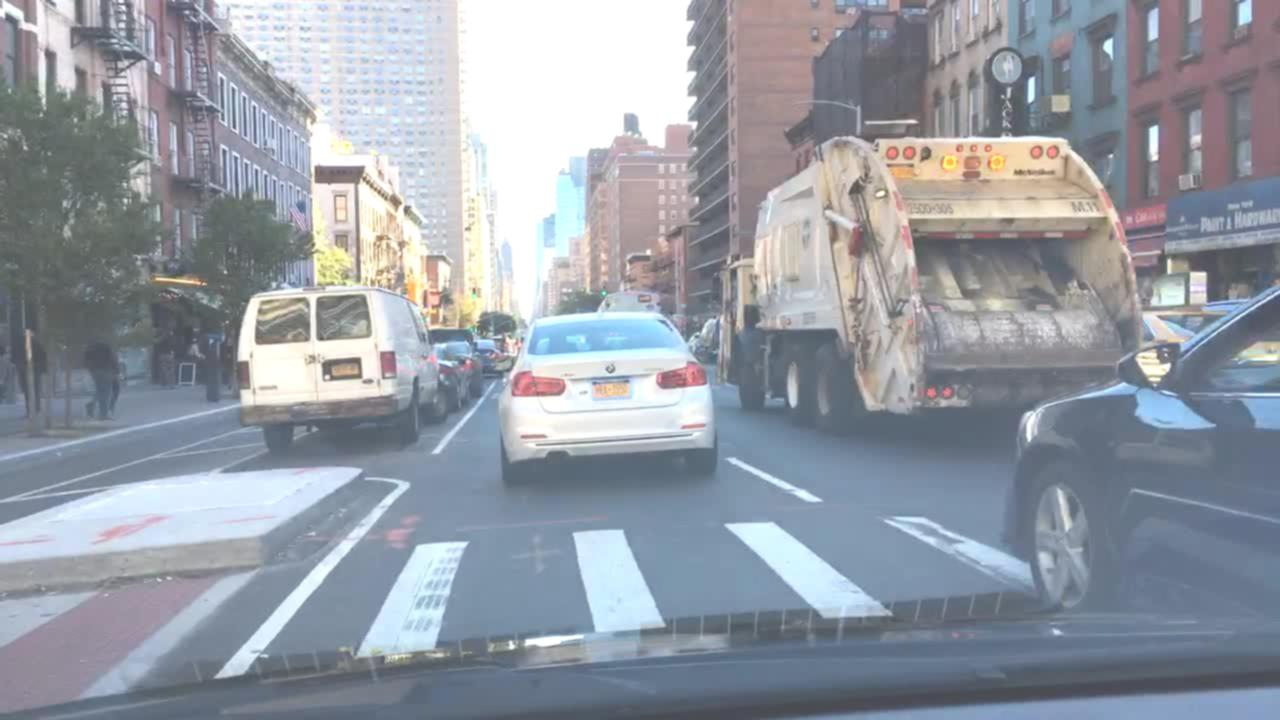bmw: (599, 358, 622, 382)
